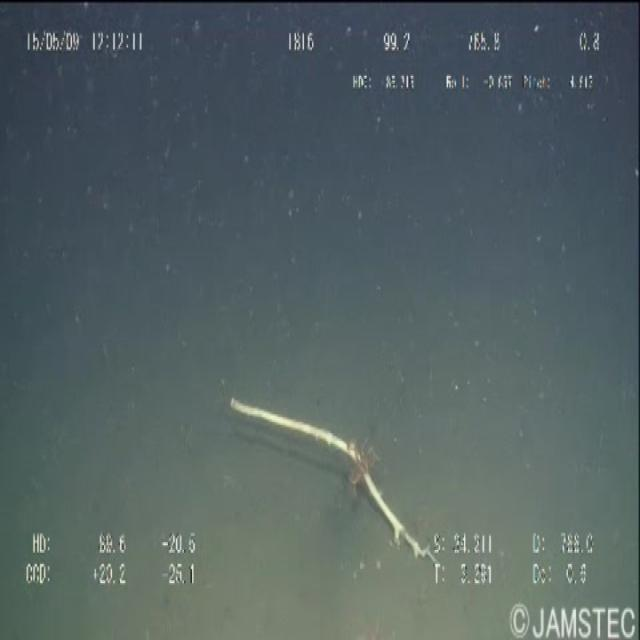Wood: (220, 384, 448, 592)
